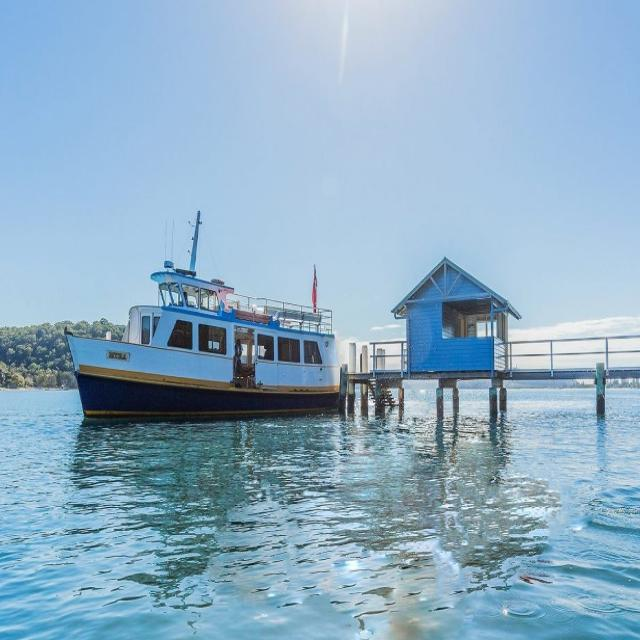houseboat: (65, 254, 355, 428)
